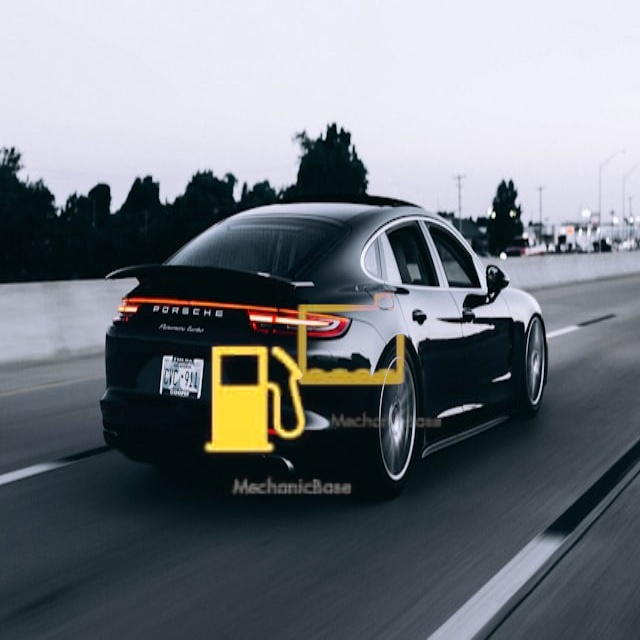symbol: (152, 297, 359, 504), (254, 242, 449, 437)
